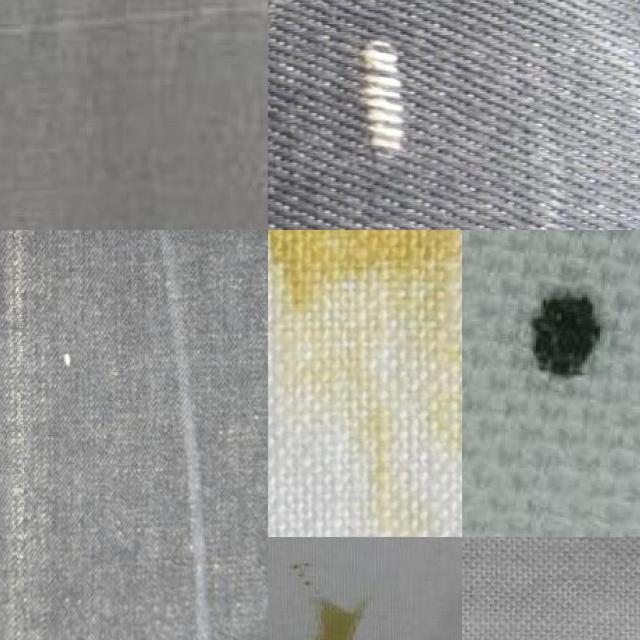Hole: (268, 230, 461, 537), (494, 273, 638, 411), (270, 555, 389, 640)
Thread_other: (0, 230, 104, 640), (294, 0, 474, 230), (0, 114, 268, 230)
